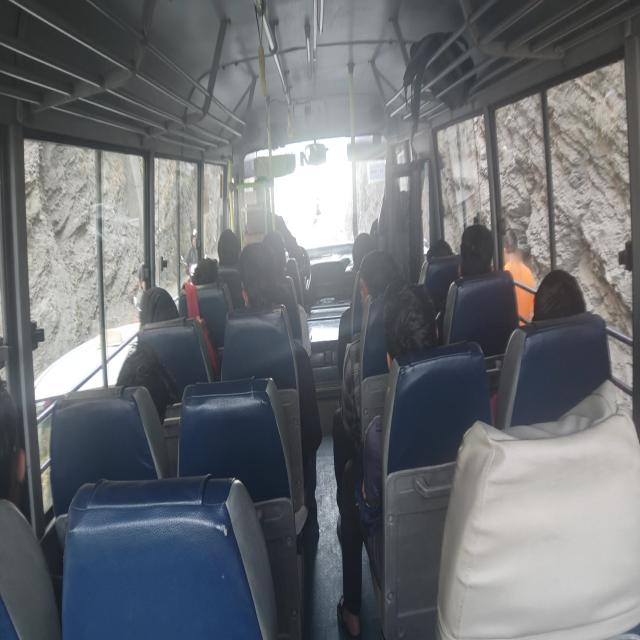person: (390, 294, 464, 385), (0, 380, 26, 637), (109, 351, 184, 433), (533, 272, 600, 328), (354, 253, 398, 307), (134, 278, 181, 328), (238, 246, 290, 288), (461, 228, 490, 286), (190, 260, 222, 302), (263, 224, 290, 259), (431, 240, 458, 273), (224, 230, 248, 266), (349, 233, 374, 267)
